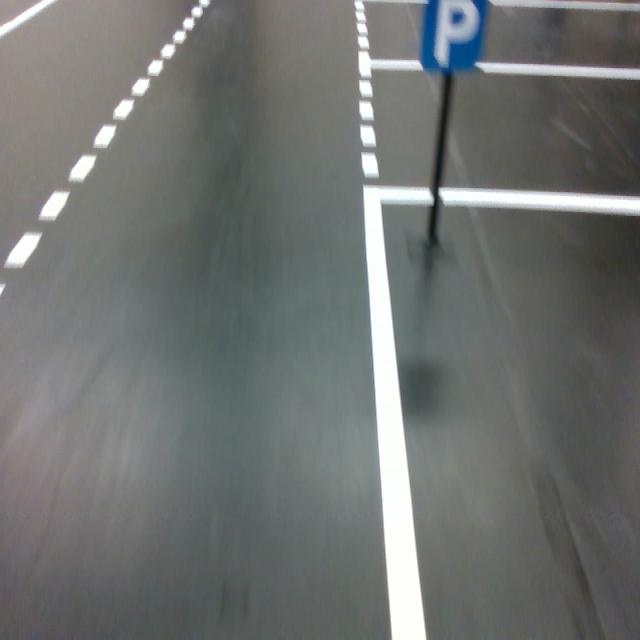parking-sign: (418, 0, 489, 74)
